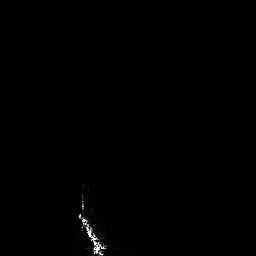ship: (76, 185, 115, 256)
